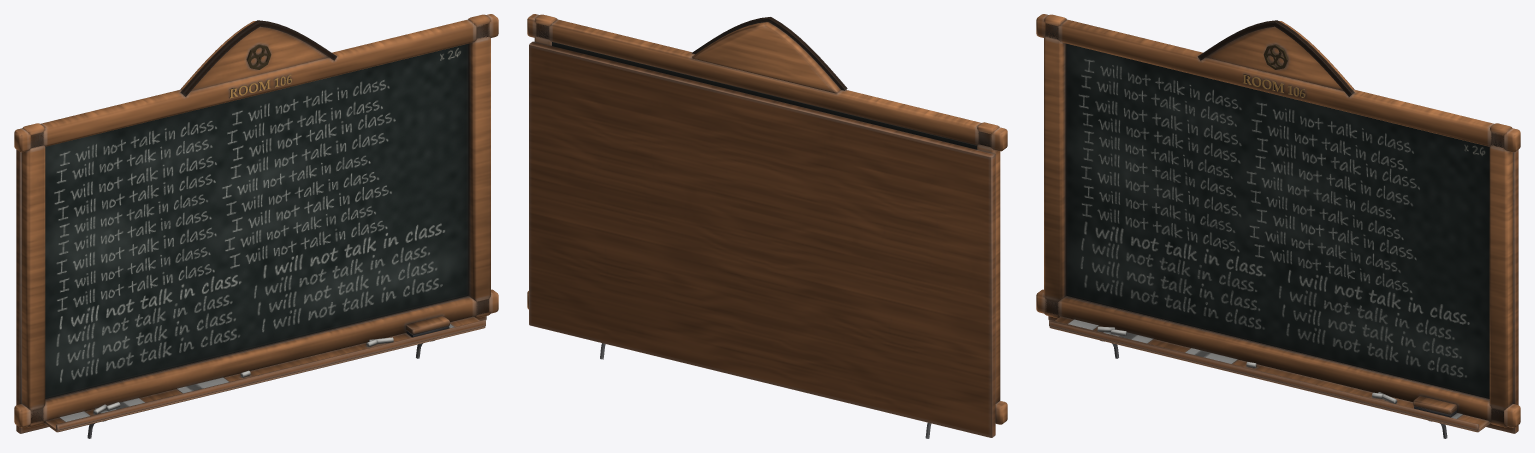
Rendered from LinesChalkboard.fbx.
3 renders of one model, left to right at view 1: azimuth 30°, elevation 25°; view 2: azimuth 150°, elevation 25°; view 3: azimuth 330°, elevation 25°, orthographic.
Parts seen in each view (by area): view 1: LinesChalkboard; view 2: LinesChalkboard; view 3: LinesChalkboard.
Boxes of the visible parts, left/top/right/bottom form: LinesChalkboard: left=14, top=14, right=498, bottom=438; LinesChalkboard: left=527, top=14, right=1007, bottom=438; LinesChalkboard: left=1036, top=14, right=1520, bottom=438.
Bounding box in the file's own units: 760 × 576 × 62.
